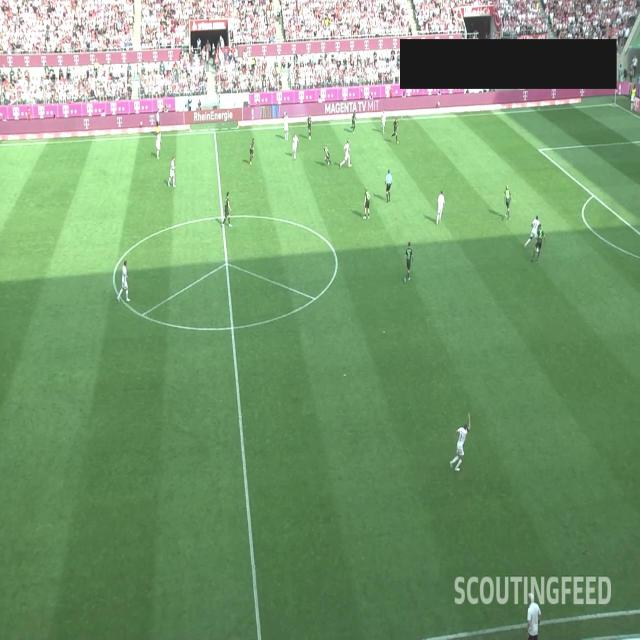player: (449, 412, 471, 472), (530, 224, 546, 262), (524, 214, 540, 248), (118, 260, 130, 302), (402, 242, 413, 282), (222, 191, 233, 227), (339, 140, 351, 168), (503, 184, 512, 220), (436, 190, 445, 226), (390, 117, 400, 145), (168, 156, 176, 188), (364, 186, 371, 220), (291, 132, 299, 160), (322, 144, 332, 166), (283, 110, 289, 142), (155, 130, 161, 160), (249, 138, 255, 166), (381, 108, 386, 134), (307, 114, 312, 140), (350, 111, 356, 131)
referee: (385, 169, 393, 203), (155, 108, 161, 136)
